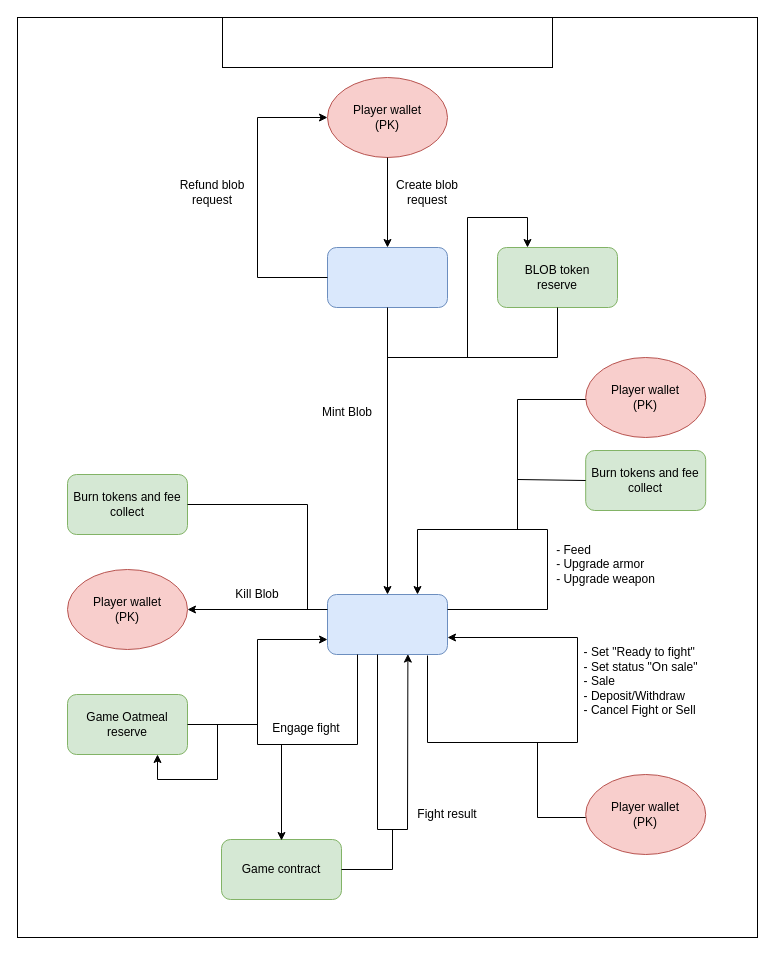
This 775x955 diagram has some shape labels left out. The shapes that lost their labels are listed below. From the top down, each one's centre as x and y in pixels, then its label:
point 387,42: Blob's Topia smart contracts interactions
point 387,277: Blob request
point 387,624: Blob
